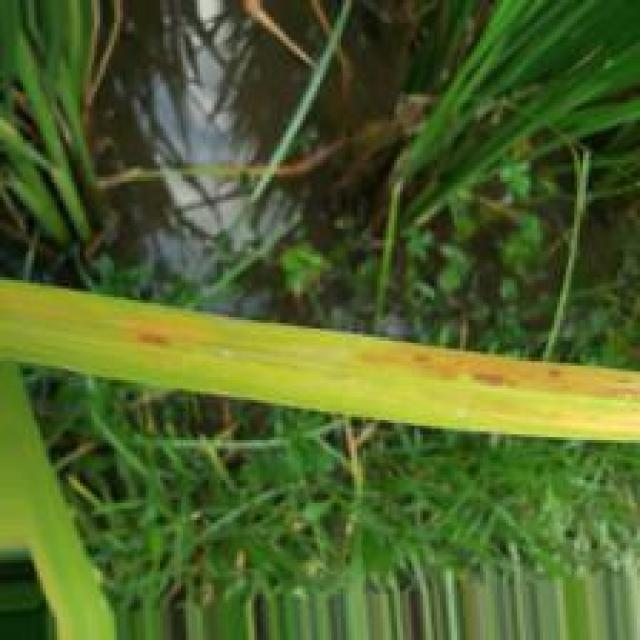Narrow_Brown_Leaf_Spot: (355, 339, 640, 404), (129, 326, 178, 355)
